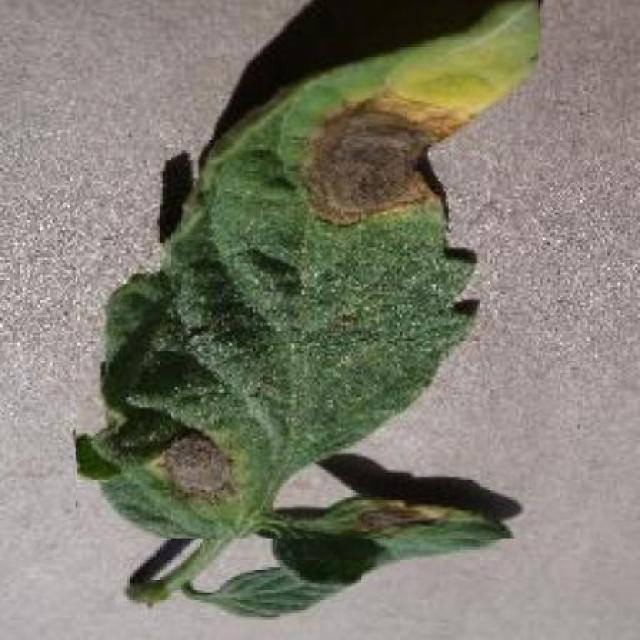Early Blight: (76, 0, 538, 539)
